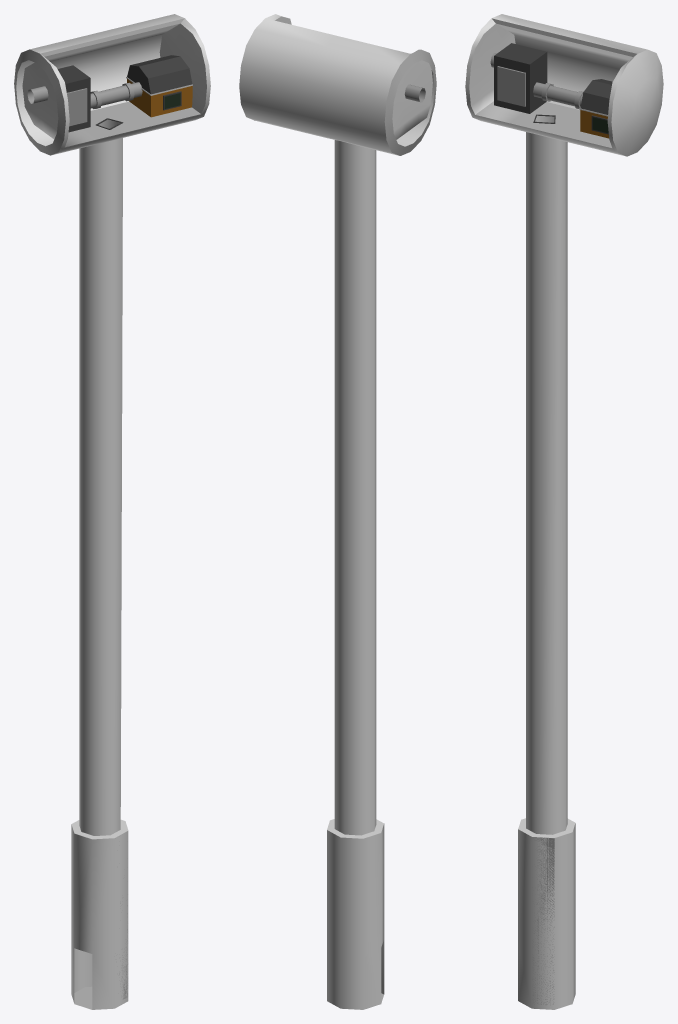
The model's file is Windturbine_Inside.fbx.
3 views of the same model, side by side, from view 1: azimuth 30°, elevation 25°; view 2: azimuth 150°, elevation 25°; view 3: azimuth 330°, elevation 25° (orthographic).
Visible parts, largest first — view 1: Object092; view 2: Object092; view 3: Object092.
Part boxes in pixels (x1,y1,x2,y2): Object092: (14, 14, 210, 1009); Object092: (239, 14, 436, 1009); Object092: (465, 14, 663, 1009).
Size of the model in its own units: 192 by 1046 by 103.
Materials: 1 (1 with a texture image).
